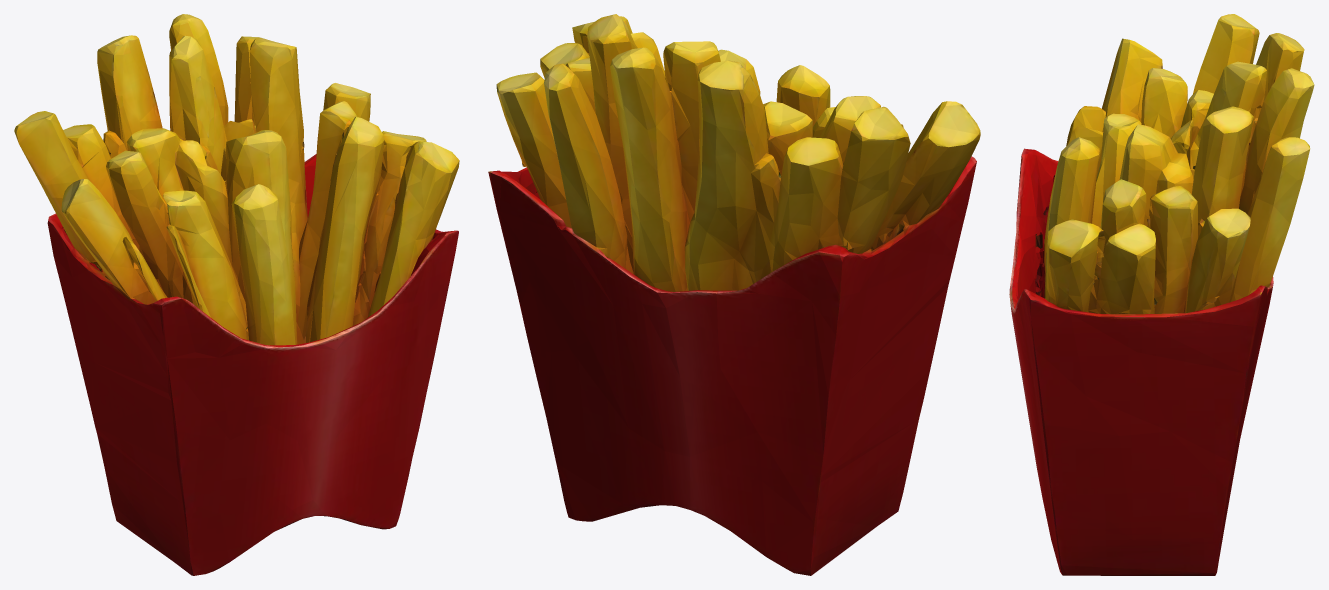
File: table_side_drum_gold.glb
3 renders of one model, left to right at view 1: azimuth 30°, elevation 25°; view 2: azimuth 150°, elevation 25°; view 3: azimuth 270°, elevation 25°, orthographic. The views are drawn at different scales.
Parts seen in each view (by area): view 1: geometry_0; view 2: geometry_0; view 3: geometry_0.
Part boxes in pixels (x1,y1,x2,y2): geometry_0: [14, 14, 459, 575]; geometry_0: [488, 14, 980, 575]; geometry_0: [1009, 14, 1314, 575].
Bounding box in the file's own units: 0.8565 × 0.9991 × 0.6019.
Materials: 1 (1 with a texture image).
